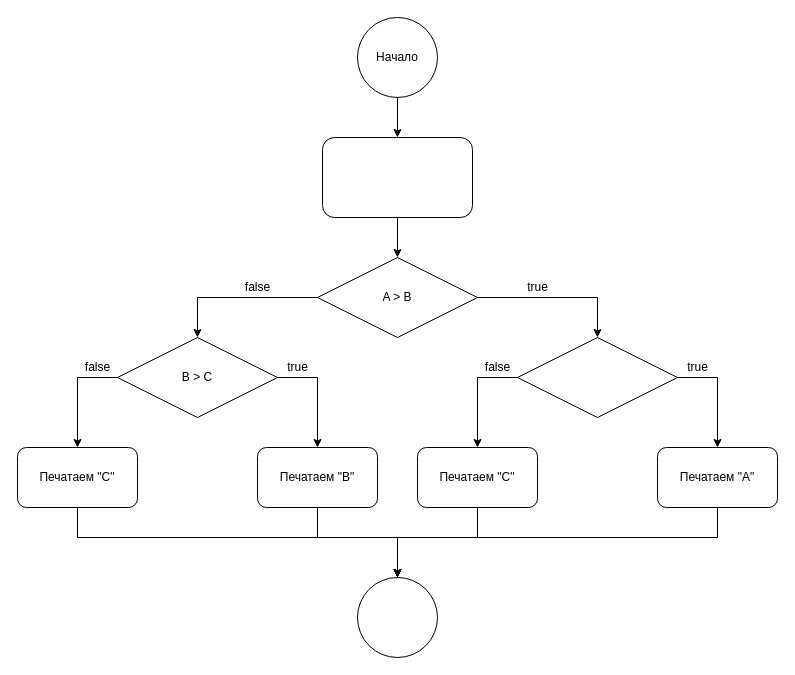
Image size: 795x675. Some labels were removed from this diagram. The centre of each missing label's shape, as x and y in pixels:
"A > C" belongs at point (597, 377).
"Конец" belongs at point (397, 617).
"Объявление чисел: A, B, C" belongs at point (397, 177).
